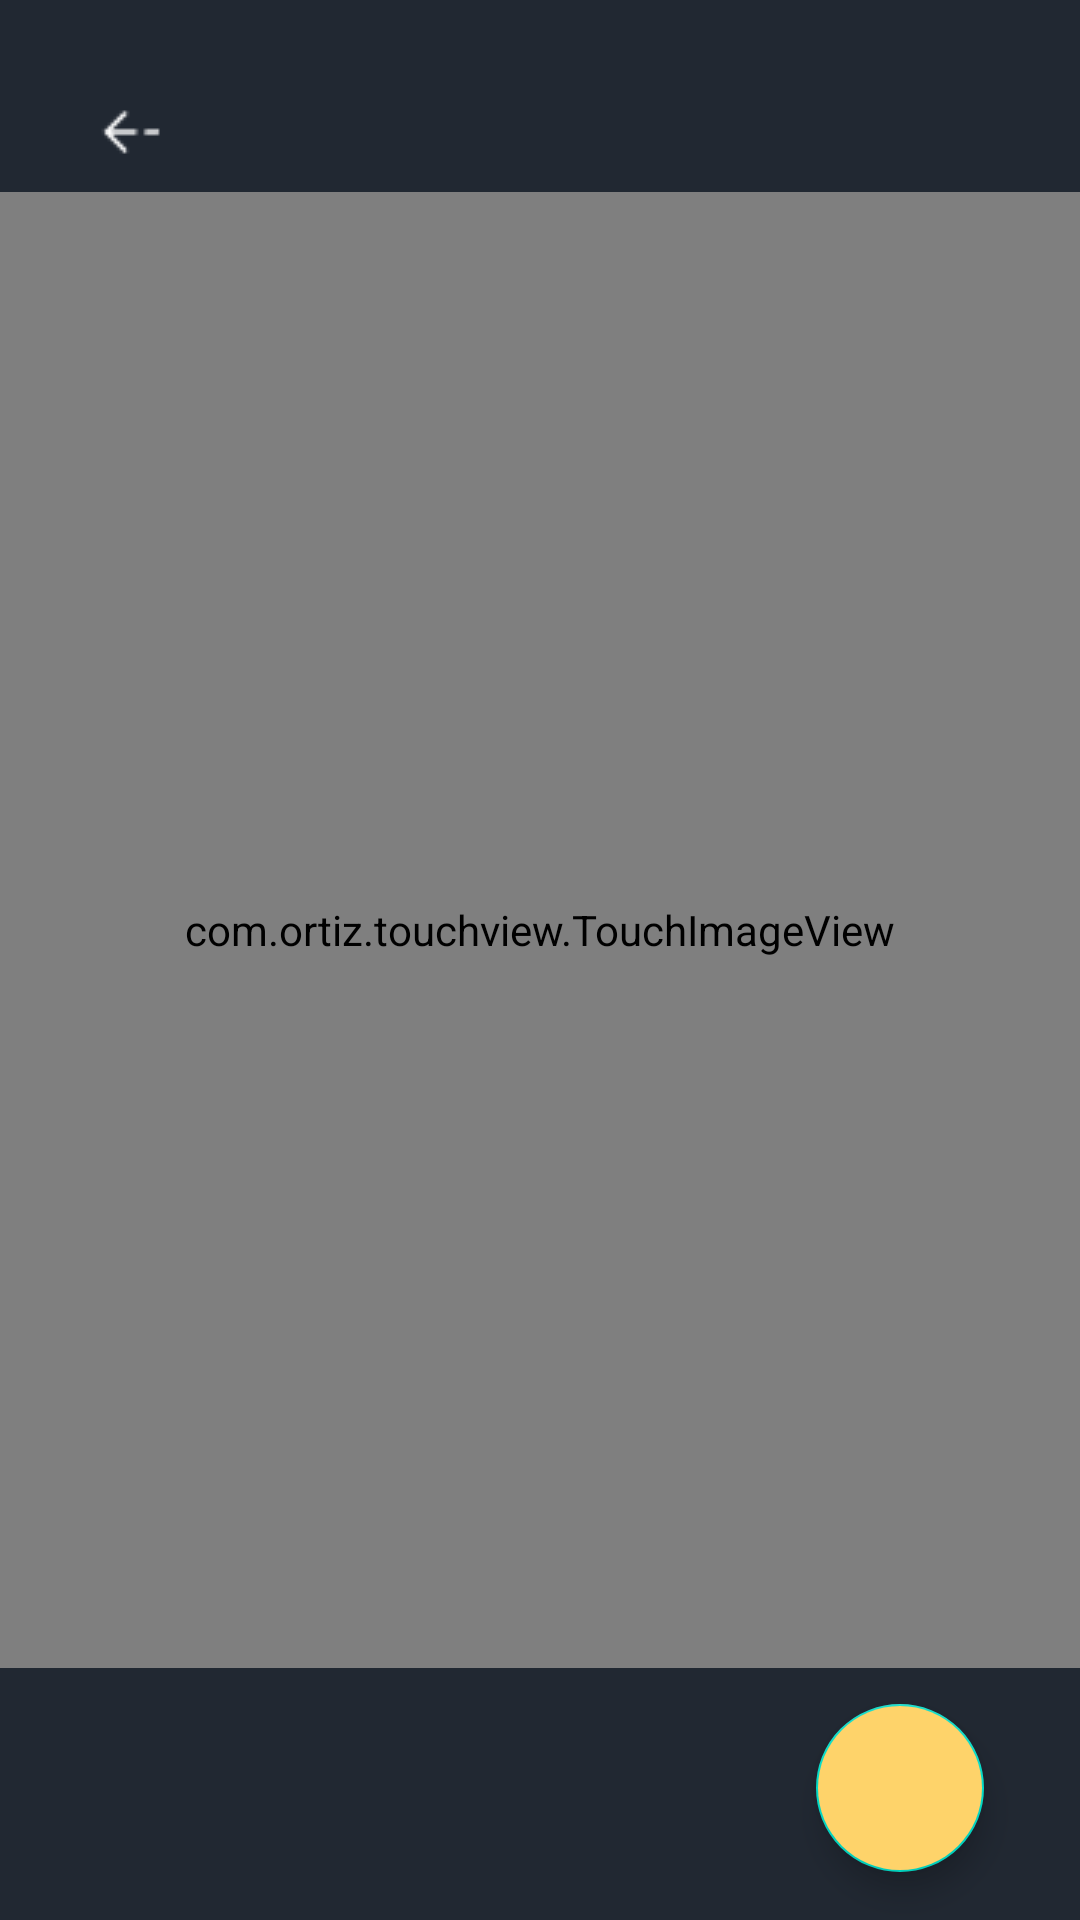

Icon bounding boxes for this 1080*1920 phone screenshot, format Rect(x1, y1, x2, y2):
arrowleft: Rect(103, 110, 160, 154)
